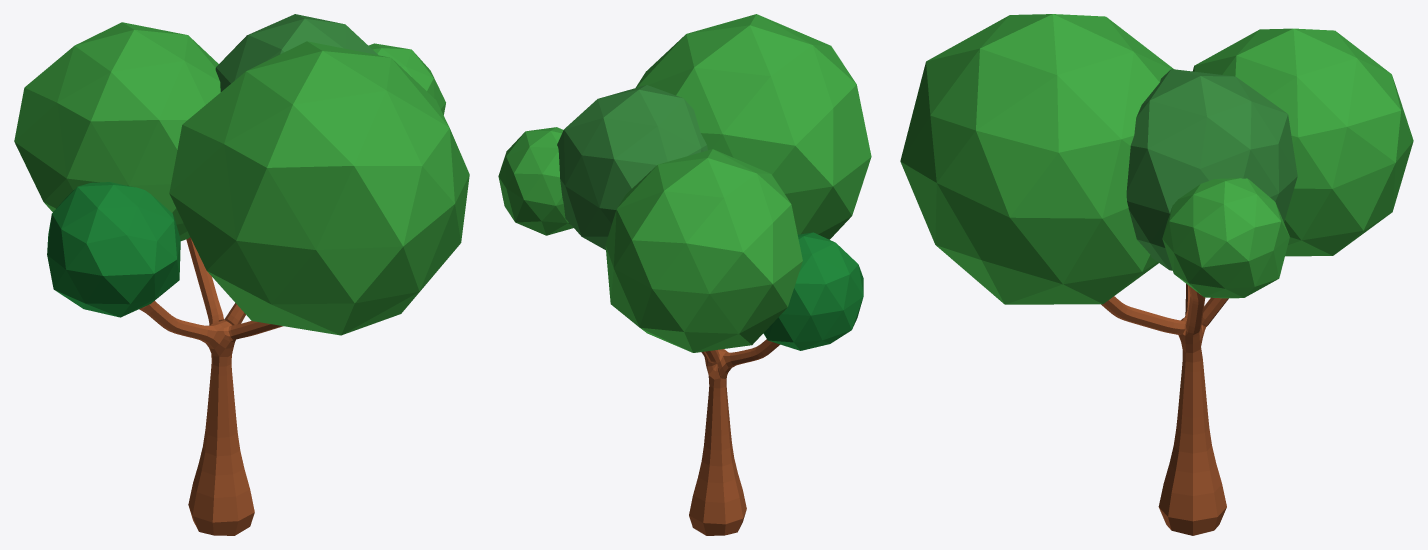
File: tree.fbx
3 renders of one model, left to right at view 1: azimuth 30°, elevation 25°; view 2: azimuth 150°, elevation 25°; view 3: azimuth 270°, elevation 25°, orthographic. The views are drawn at different scales.
Parts seen in each view (by area): view 1: Plane; view 2: Plane; view 3: Plane.
Part boxes in pixels (bbox=[...]): Plane: bbox=[14, 14, 469, 535]; Plane: bbox=[498, 14, 871, 535]; Plane: bbox=[900, 14, 1413, 535].
Size of the model in its own units: 776 by 996 by 870.
